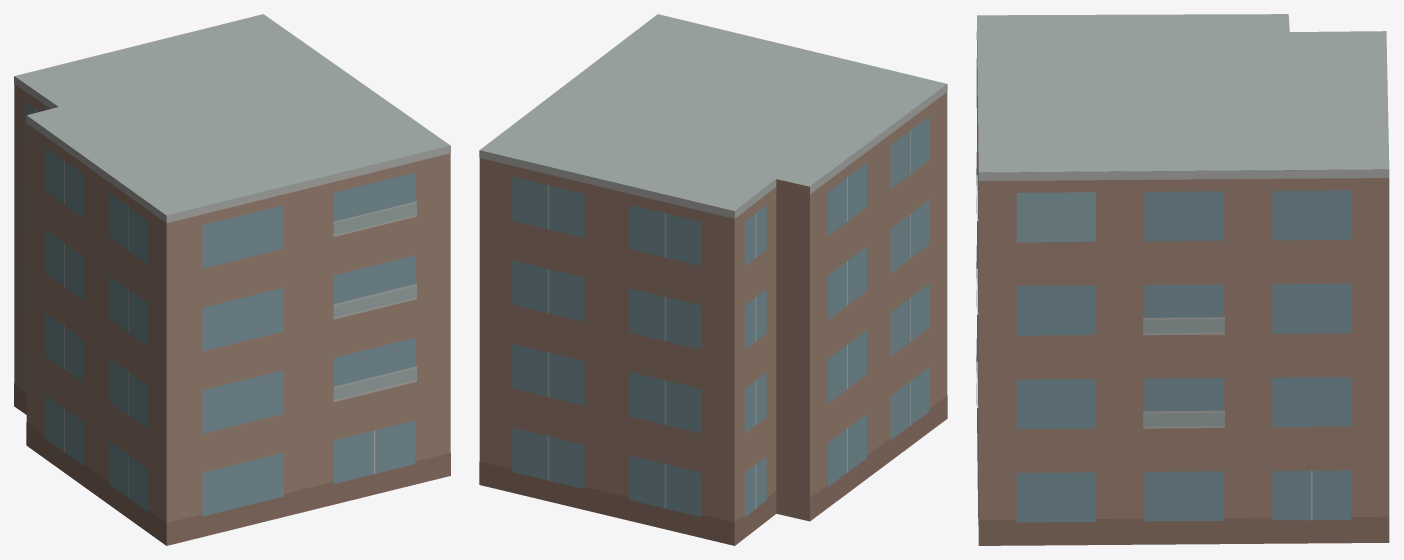
Rendered from survey-upis-32974258.glb.
The picture shows the model from 3 angles, left to right: view 1: azimuth 30°, elevation 25°; view 2: azimuth 150°, elevation 25°; view 3: azimuth 270°, elevation 25°; orthographic projection. The views are drawn at different scales.
Parts seen in each view (by area): view 1: survey-upis-32974258.tmp; view 2: survey-upis-32974258.tmp; view 3: survey-upis-32974258.tmp.
Part boxes in pixels (bbox=[...]): survey-upis-32974258.tmp: bbox=[14, 14, 450, 545]; survey-upis-32974258.tmp: bbox=[479, 14, 947, 545]; survey-upis-32974258.tmp: bbox=[976, 14, 1389, 545].
Bounding box in the file's own units: 9.61 × 10.55 × 10.58.
